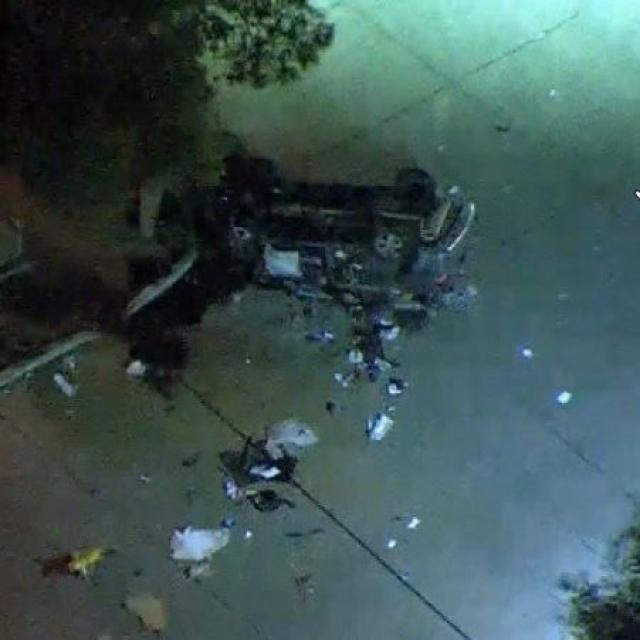traffic_incident: (166, 155, 480, 352)
